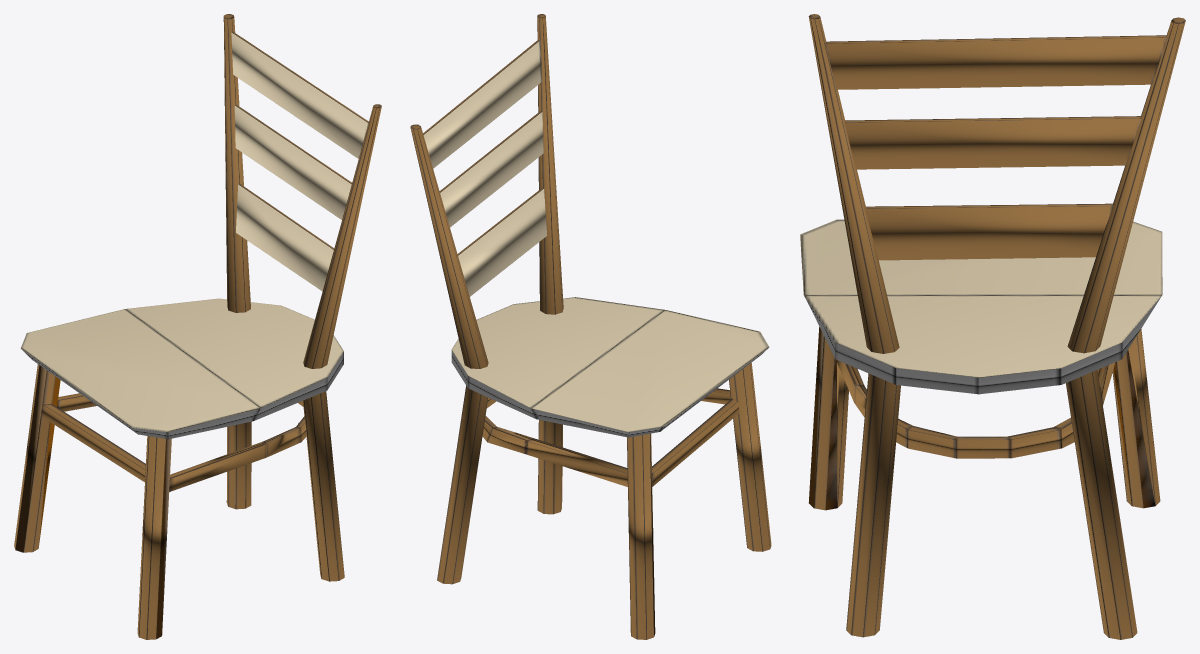
The model's file is Stuhl.fbx.
3 views of the same model, side by side, from view 1: azimuth 30°, elevation 25°; view 2: azimuth 150°, elevation 25°; view 3: azimuth 270°, elevation 25° (orthographic). The views are drawn at different scales.
Parts seen in each view (by area): view 1: Stuhl; view 2: Stuhl; view 3: Stuhl.
Boxes of the visible parts, x1,y1,x2,y2 form: Stuhl: (14,14,381,639); Stuhl: (410,14,771,639); Stuhl: (800,14,1185,639).
Size of the model in its own units: 396 by 718 by 398.
